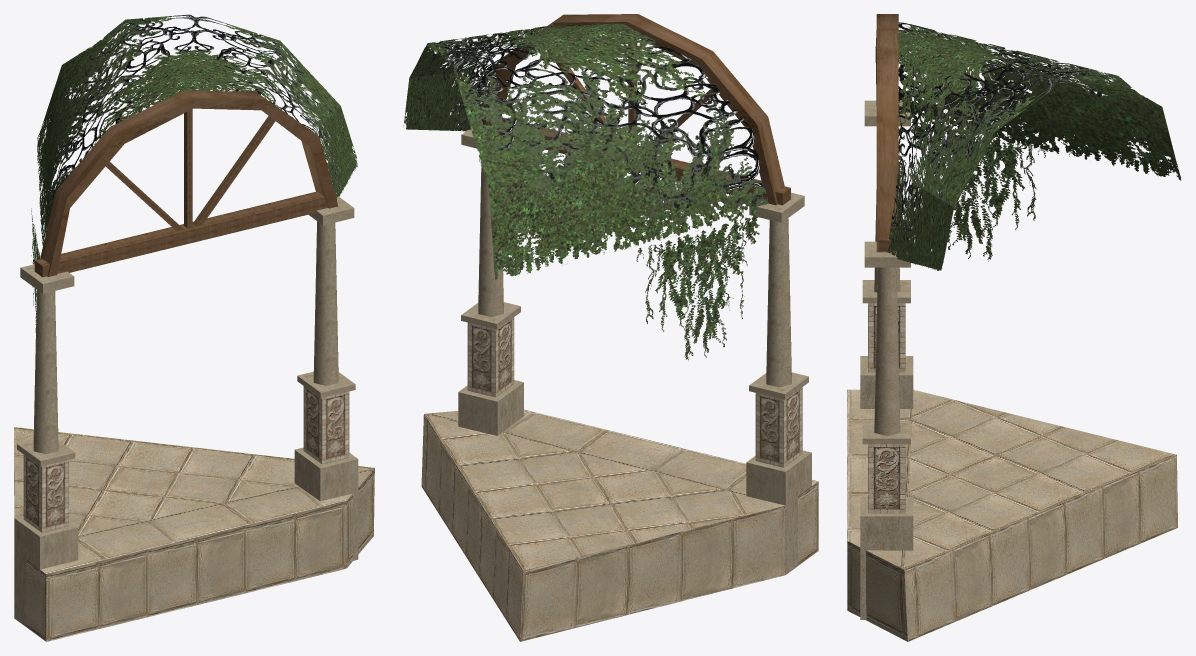
Rendered from thm_nboo_imprv_arbor_corner_45_s01_l0.fbx.
The picture shows the model from 3 angles, left to right: view 1: azimuth 30°, elevation 25°; view 2: azimuth 150°, elevation 25°; view 3: azimuth 270°, elevation 25°; orthographic projection. The views are drawn at different scales.
Visible parts, largest first — view 1: mesh_node; view 2: mesh_node; view 3: mesh_node.
Boxes of the visible parts, x1,y1,x2,y2 form: mesh_node: (14, 14, 374, 641); mesh_node: (403, 14, 818, 641); mesh_node: (847, 14, 1181, 641).
Size of the model in its own units: 4.43 by 5.86 by 3.47.
6 materials, 6 textured.
